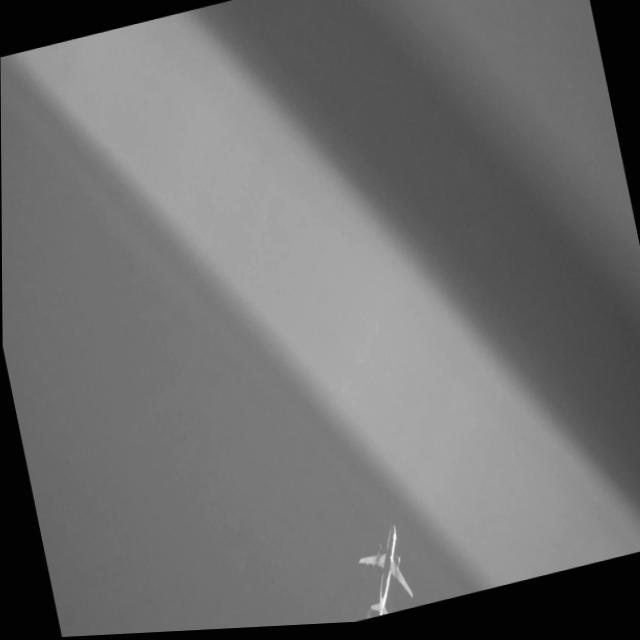aeroplane: (350, 524, 417, 623)
